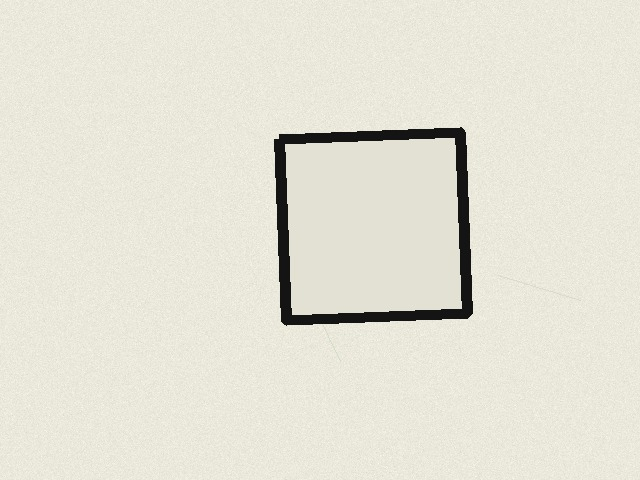parking_area: (279, 132, 467, 320)
